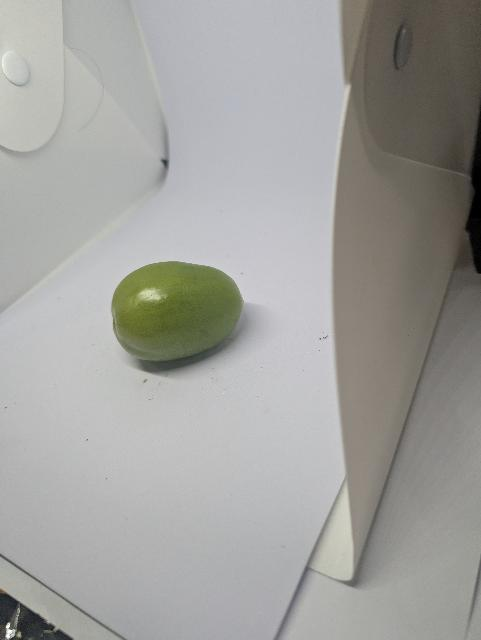green: (110, 227, 266, 391)
